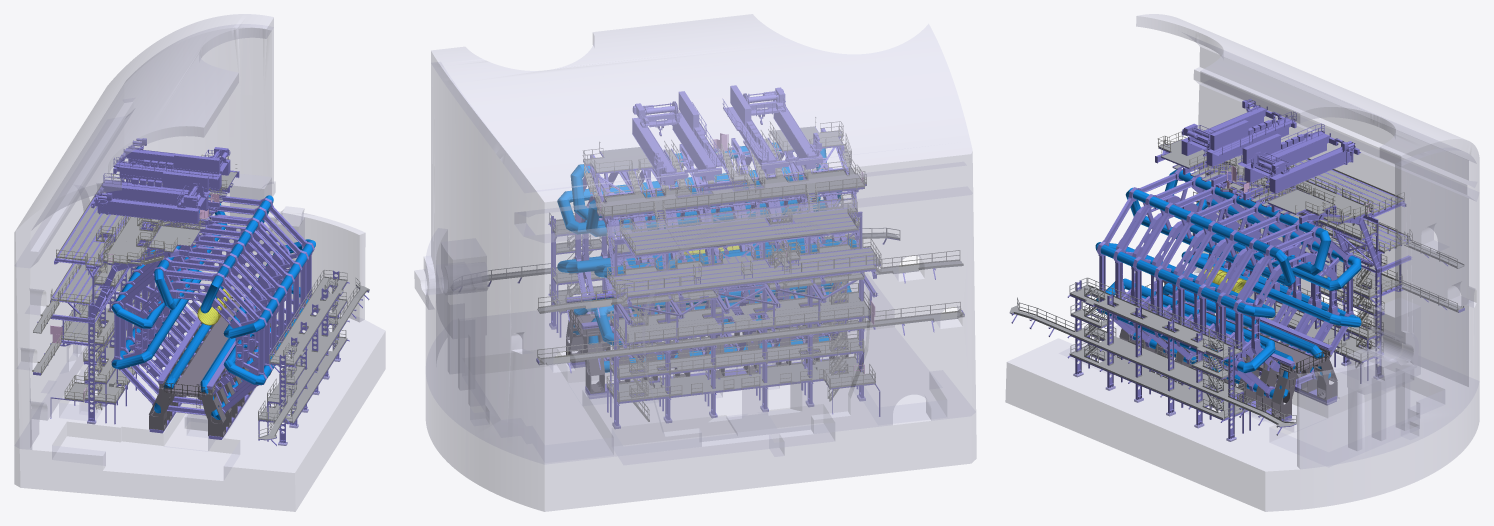
Rendered from magnet_system_scene.glb.
3 renders of one model, left to right at view 1: azimuth 30°, elevation 25°; view 2: azimuth 150°, elevation 25°; view 3: azimuth 270°, elevation 25°, orthographic. The views are drawn at different scales.
Parts seen in each view (by area): view 1: Mesh_0.001, warm structure beams.002, Mesh_2.001, toroid rings.002, _000001E921335F00_IndexedFaceSet.001, _000002081C2C26F0_08_IndexedFaceSet.001, _000001E91EBD7450_IndexedFaceSet.001, warm structure NS.001, _000001E91FBB8510_0006_IndexedFaceSet.001, _000002080FB1A4B0_IndexedFaceSet.001, warm structure connection.002, feet.002 (+8 smaller); view 2: Mesh_0.001, _000001E921335F00_IndexedFaceSet.001, _000001E91FBB8510_0006_IndexedFaceSet.001, _000001E91EBD7450_IndexedFaceSet.001, Mesh_2.001, toroid rings.002, _00000207B58B88B0_041_IndexedFaceSet.001, _00000207895ABB30_23_IndexedFaceSet.001, _00000207B58BB400_IndexedFaceSet.001, warm structure beams.002, feet.002, _000002080FB1A4B0_IndexedFaceSet.001 (+4 smaller); view 3: Mesh_0.001, toroid rings.002, warm structure beams.002, Mesh_2.001, _000002081C2C26F0_08_IndexedFaceSet.001, _000002080FB1A4B0_IndexedFaceSet.001, _000001E921335F00_IndexedFaceSet.001, _000001E91EBD7450_IndexedFaceSet.001, _000002080FAFA770_IndexedFaceSet.001, _000001E91FBB8510_0006_IndexedFaceSet.001, warm structure NS.001, warm structure connection.002 (+8 smaller).
Part boxes in pixels (x1,y1,x2,y2): Mesh_0.001: [14, 14, 385, 511]; warm structure beams.002: [114, 196, 311, 416]; Mesh_2.001: [91, 138, 230, 224]; toroid rings.002: [111, 195, 315, 419]; _000001E921335F00_IndexedFaceSet.001: [33, 192, 155, 402]; _000002081C2C26F0_08_IndexedFaceSet.001: [258, 277, 369, 439]; _000001E91EBD7450_IndexedFaceSet.001: [33, 183, 169, 424]; warm structure NS.001: [135, 215, 289, 390]; _000001E91FBB8510_0006_IndexedFaceSet.001: [32, 173, 152, 410]; _000002080FB1A4B0_IndexedFaceSet.001: [258, 269, 368, 438]; warm structure connection.002: [134, 214, 290, 394]; feet.002: [149, 322, 270, 437]; Mesh_0.001: [414, 14, 976, 511]; _000001E921335F00_IndexedFaceSet.001: [537, 204, 964, 401]; _000001E91FBB8510_0006_IndexedFaceSet.001: [537, 194, 963, 421]; _000001E91EBD7450_IndexedFaceSet.001: [536, 193, 964, 428]; Mesh_2.001: [632, 85, 825, 185]; toroid rings.002: [557, 142, 856, 372]; _00000207B58B88B0_041_IndexedFaceSet.001: [582, 117, 866, 228]; _00000207895ABB30_23_IndexedFaceSet.001: [584, 126, 863, 216]; _00000207B58BB400_IndexedFaceSet.001: [583, 127, 866, 222]; warm structure beams.002: [575, 153, 847, 364]; feet.002: [566, 302, 848, 393]; _000002080FB1A4B0_IndexedFaceSet.001: [482, 198, 900, 313]; Mesh_0.001: [1005, 14, 1479, 511]; toroid rings.002: [1095, 169, 1361, 398]; warm structure beams.002: [1098, 173, 1353, 393]; Mesh_2.001: [1181, 99, 1360, 193]; _000002081C2C26F0_08_IndexedFaceSet.001: [1009, 286, 1295, 435]; _000002080FB1A4B0_IndexedFaceSet.001: [1012, 277, 1296, 425]; _000001E921335F00_IndexedFaceSet.001: [1196, 159, 1463, 361]; _000001E91EBD7450_IndexedFaceSet.001: [1206, 159, 1464, 383]; _000002080FAFA770_IndexedFaceSet.001: [1010, 280, 1296, 441]; _000001E91FBB8510_0006_IndexedFaceSet.001: [1193, 158, 1464, 367]; warm structure NS.001: [1115, 197, 1337, 368]; warm structure connection.002: [1114, 195, 1337, 371].
Bounding box in the file's own units: 3.42 × 2.61 × 3.38.
